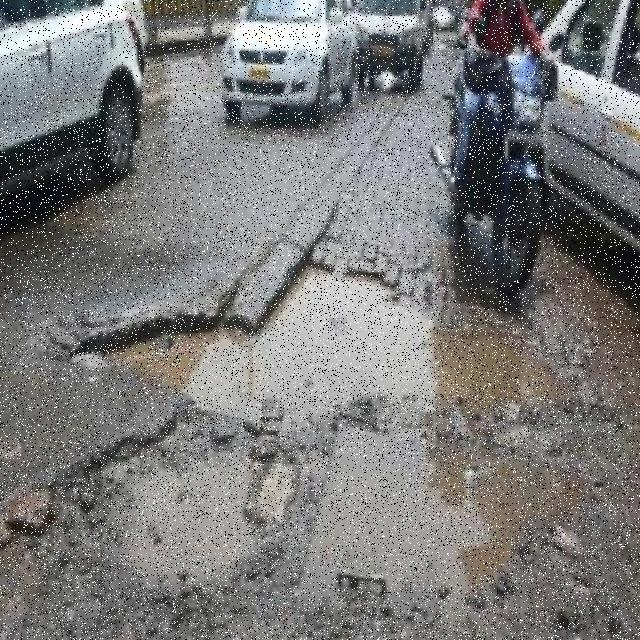pothole: (72, 270, 579, 414), (301, 427, 585, 622), (100, 457, 296, 586)
